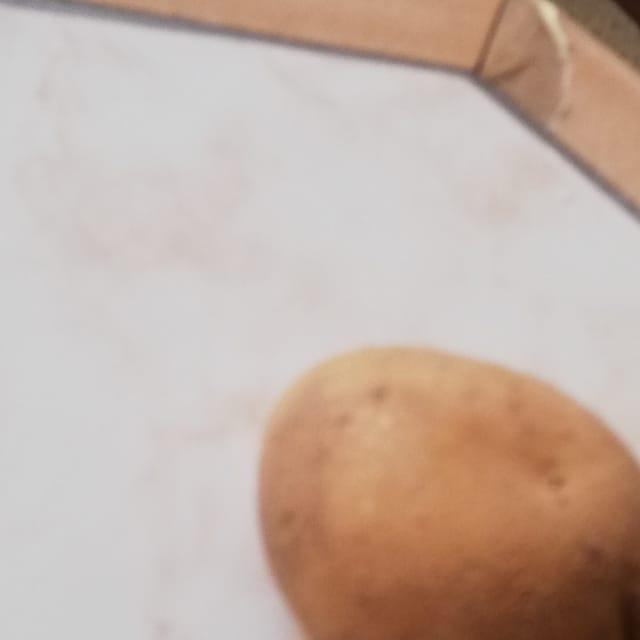potato: (248, 302, 640, 640)
